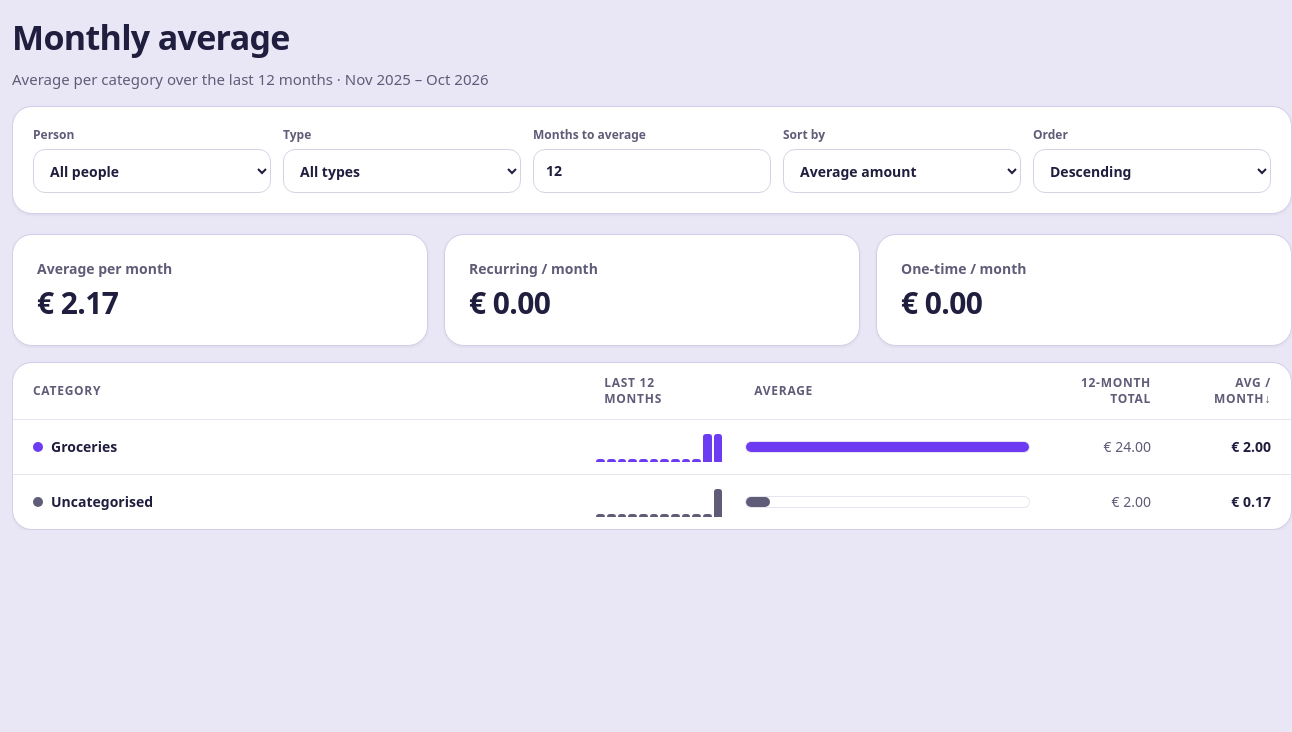
Test: monthly category average page › recomputes the table, trend, and figures when the window changes
Replace the text in the number field with test id "month-count-input" with "13": coordinates (652, 171) [533,149,771,193]
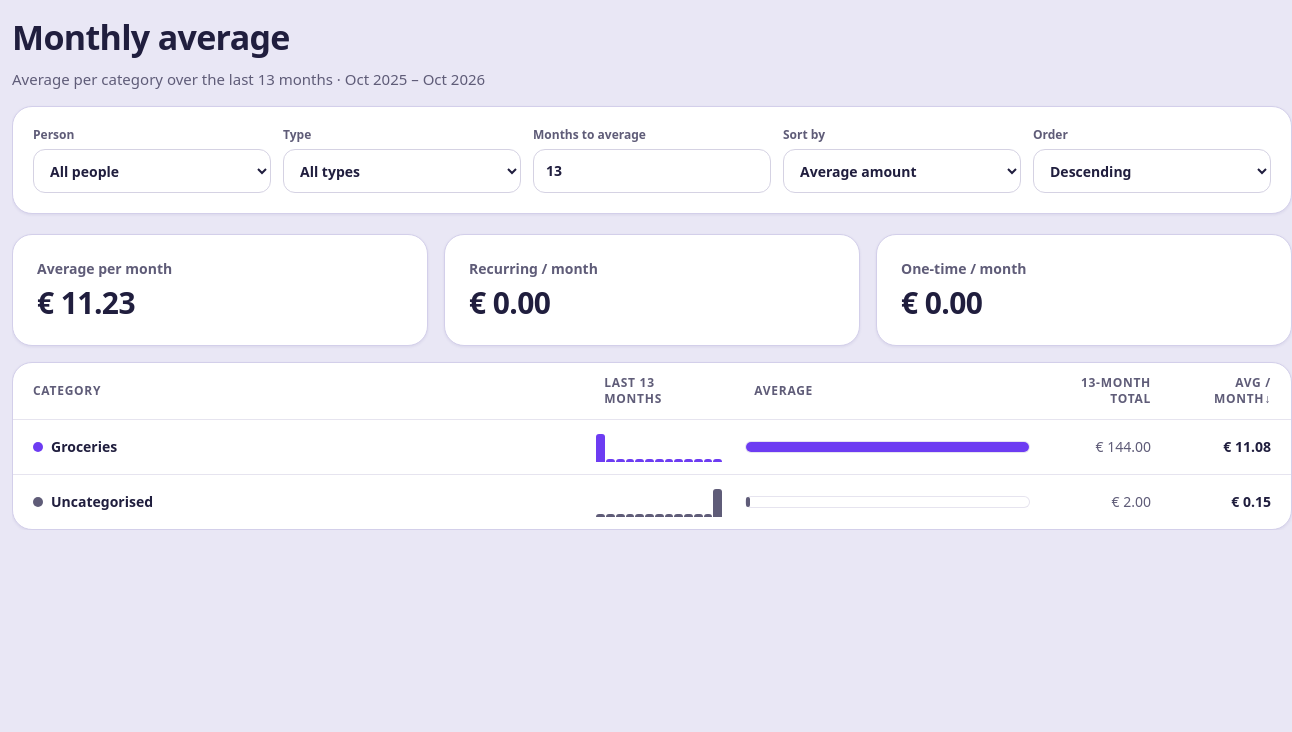
Expected: the text with test id "monthly-average-subtitle" shows "13 months", [12,69,485,89]
